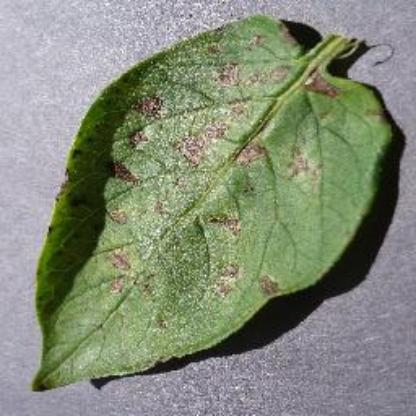Early-Blight: (27, 12, 399, 396)
